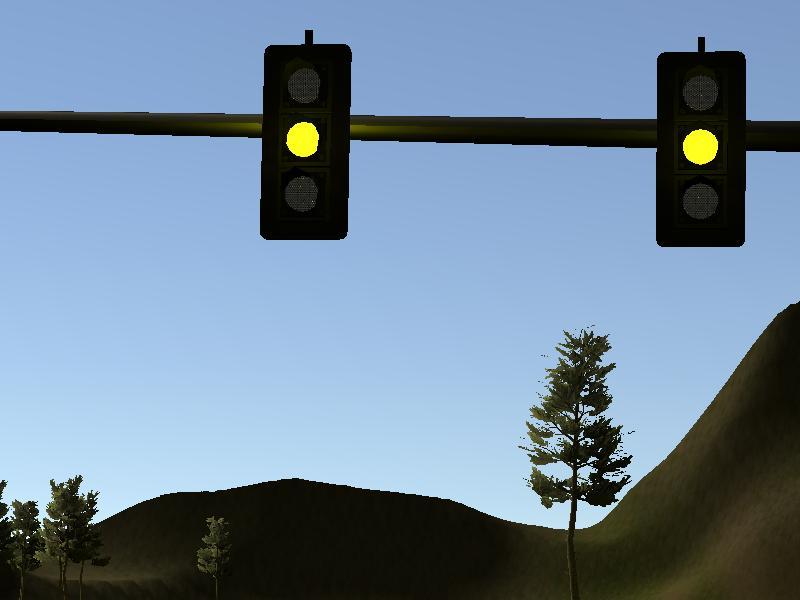yellow: (260, 43, 350, 241), (656, 51, 746, 249)
